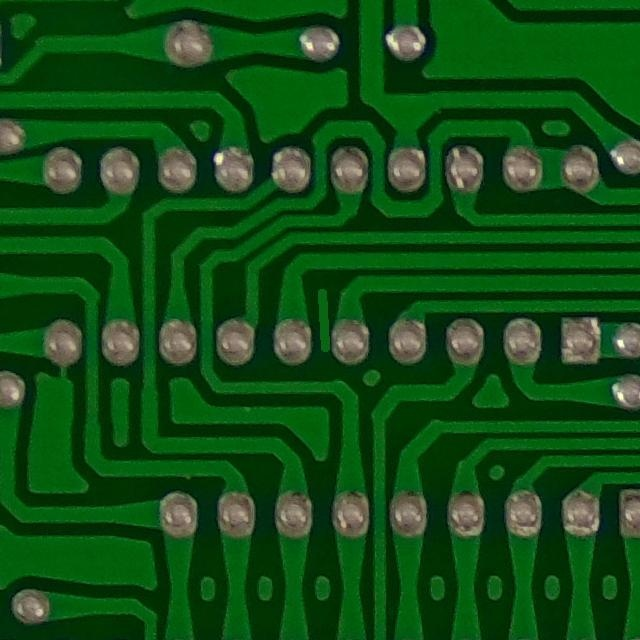spurious_copper: (303, 276, 337, 364)
